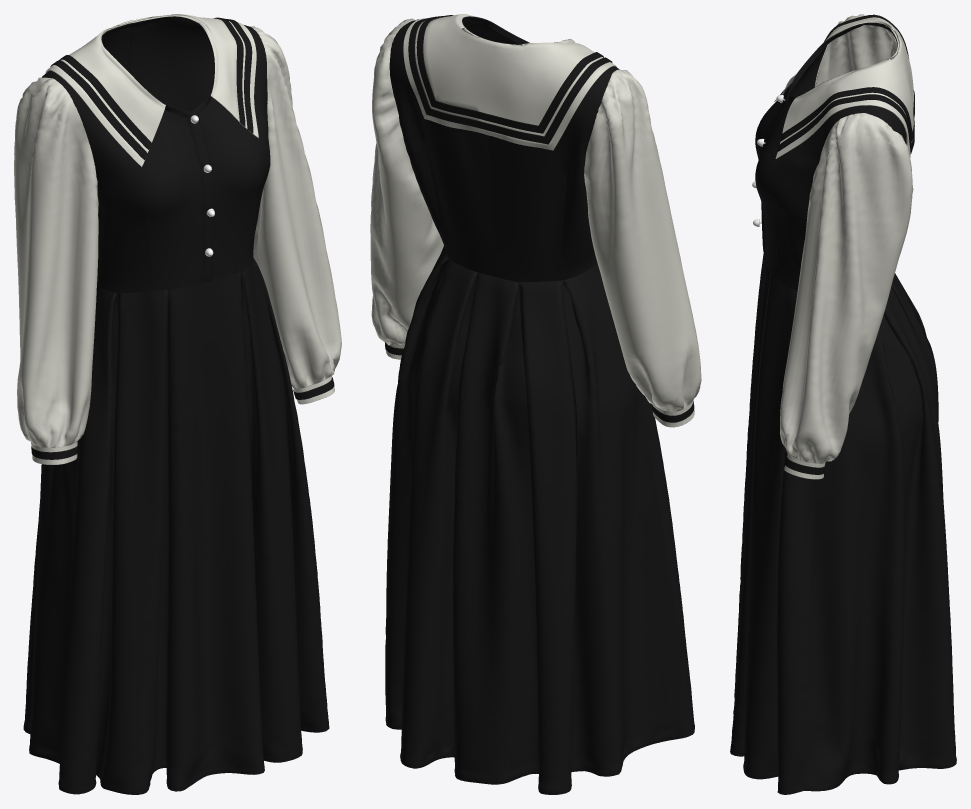
File: black_and_white_woven_bubble_sleeve_dress.glb
3 views of the same model, side by side, from view 1: azimuth 30°, elevation 25°; view 2: azimuth 150°, elevation 25°; view 3: azimuth 270°, elevation 25° (orthographic). The views are drawn at different scales.
Parts seen in each view (by area): view 1: Object_4, Object_7, Object_10, Object_8, Object_9, Object_11, Object_3, Object_2, Object_6, Object_5; view 2: Object_9, Object_7, Object_6, Object_3, Object_8, Object_10, Object_2, Object_4, Object_5, Object_11; view 3: Object_9, Object_8, Object_4, Object_11, Object_3, Object_7, Object_2, Object_10, Object_5.
Part boxes in pixels (box(x1,y1,x2,y2)): Object_4: box(59, 258, 328, 794); Object_7: box(14, 77, 98, 447); Object_10: box(53, 16, 252, 292); Object_8: box(250, 26, 341, 388); Object_9: box(23, 286, 99, 788); Object_11: box(191, 24, 270, 279); Object_3: box(45, 14, 258, 166); Object_2: box(24, 19, 334, 794); Object_6: box(31, 25, 334, 464); Object_5: box(59, 17, 245, 149); Object_9: box(385, 246, 692, 794); Object_7: box(584, 69, 701, 411); Object_6: box(385, 42, 694, 427); Object_3: box(403, 14, 616, 150); Object_8: box(370, 18, 443, 345); Object_10: box(389, 18, 619, 277); Object_2: box(386, 16, 694, 794); Object_4: box(639, 390, 694, 733); Object_5: box(416, 15, 603, 133); Object_11: box(408, 16, 529, 44); Object_9: box(804, 273, 956, 791); Object_8: box(780, 113, 913, 463); Object_4: box(730, 253, 817, 793); Object_11: box(755, 80, 864, 291); Object_3: box(774, 16, 913, 158); Object_7: box(814, 14, 896, 87); Object_2: box(730, 14, 955, 794); Object_10: box(755, 23, 910, 257); Object_5: box(780, 15, 914, 141).
Bounding box in the file's own units: 534 × 1146 × 337.
Materials: 2 (1 with a texture image).
